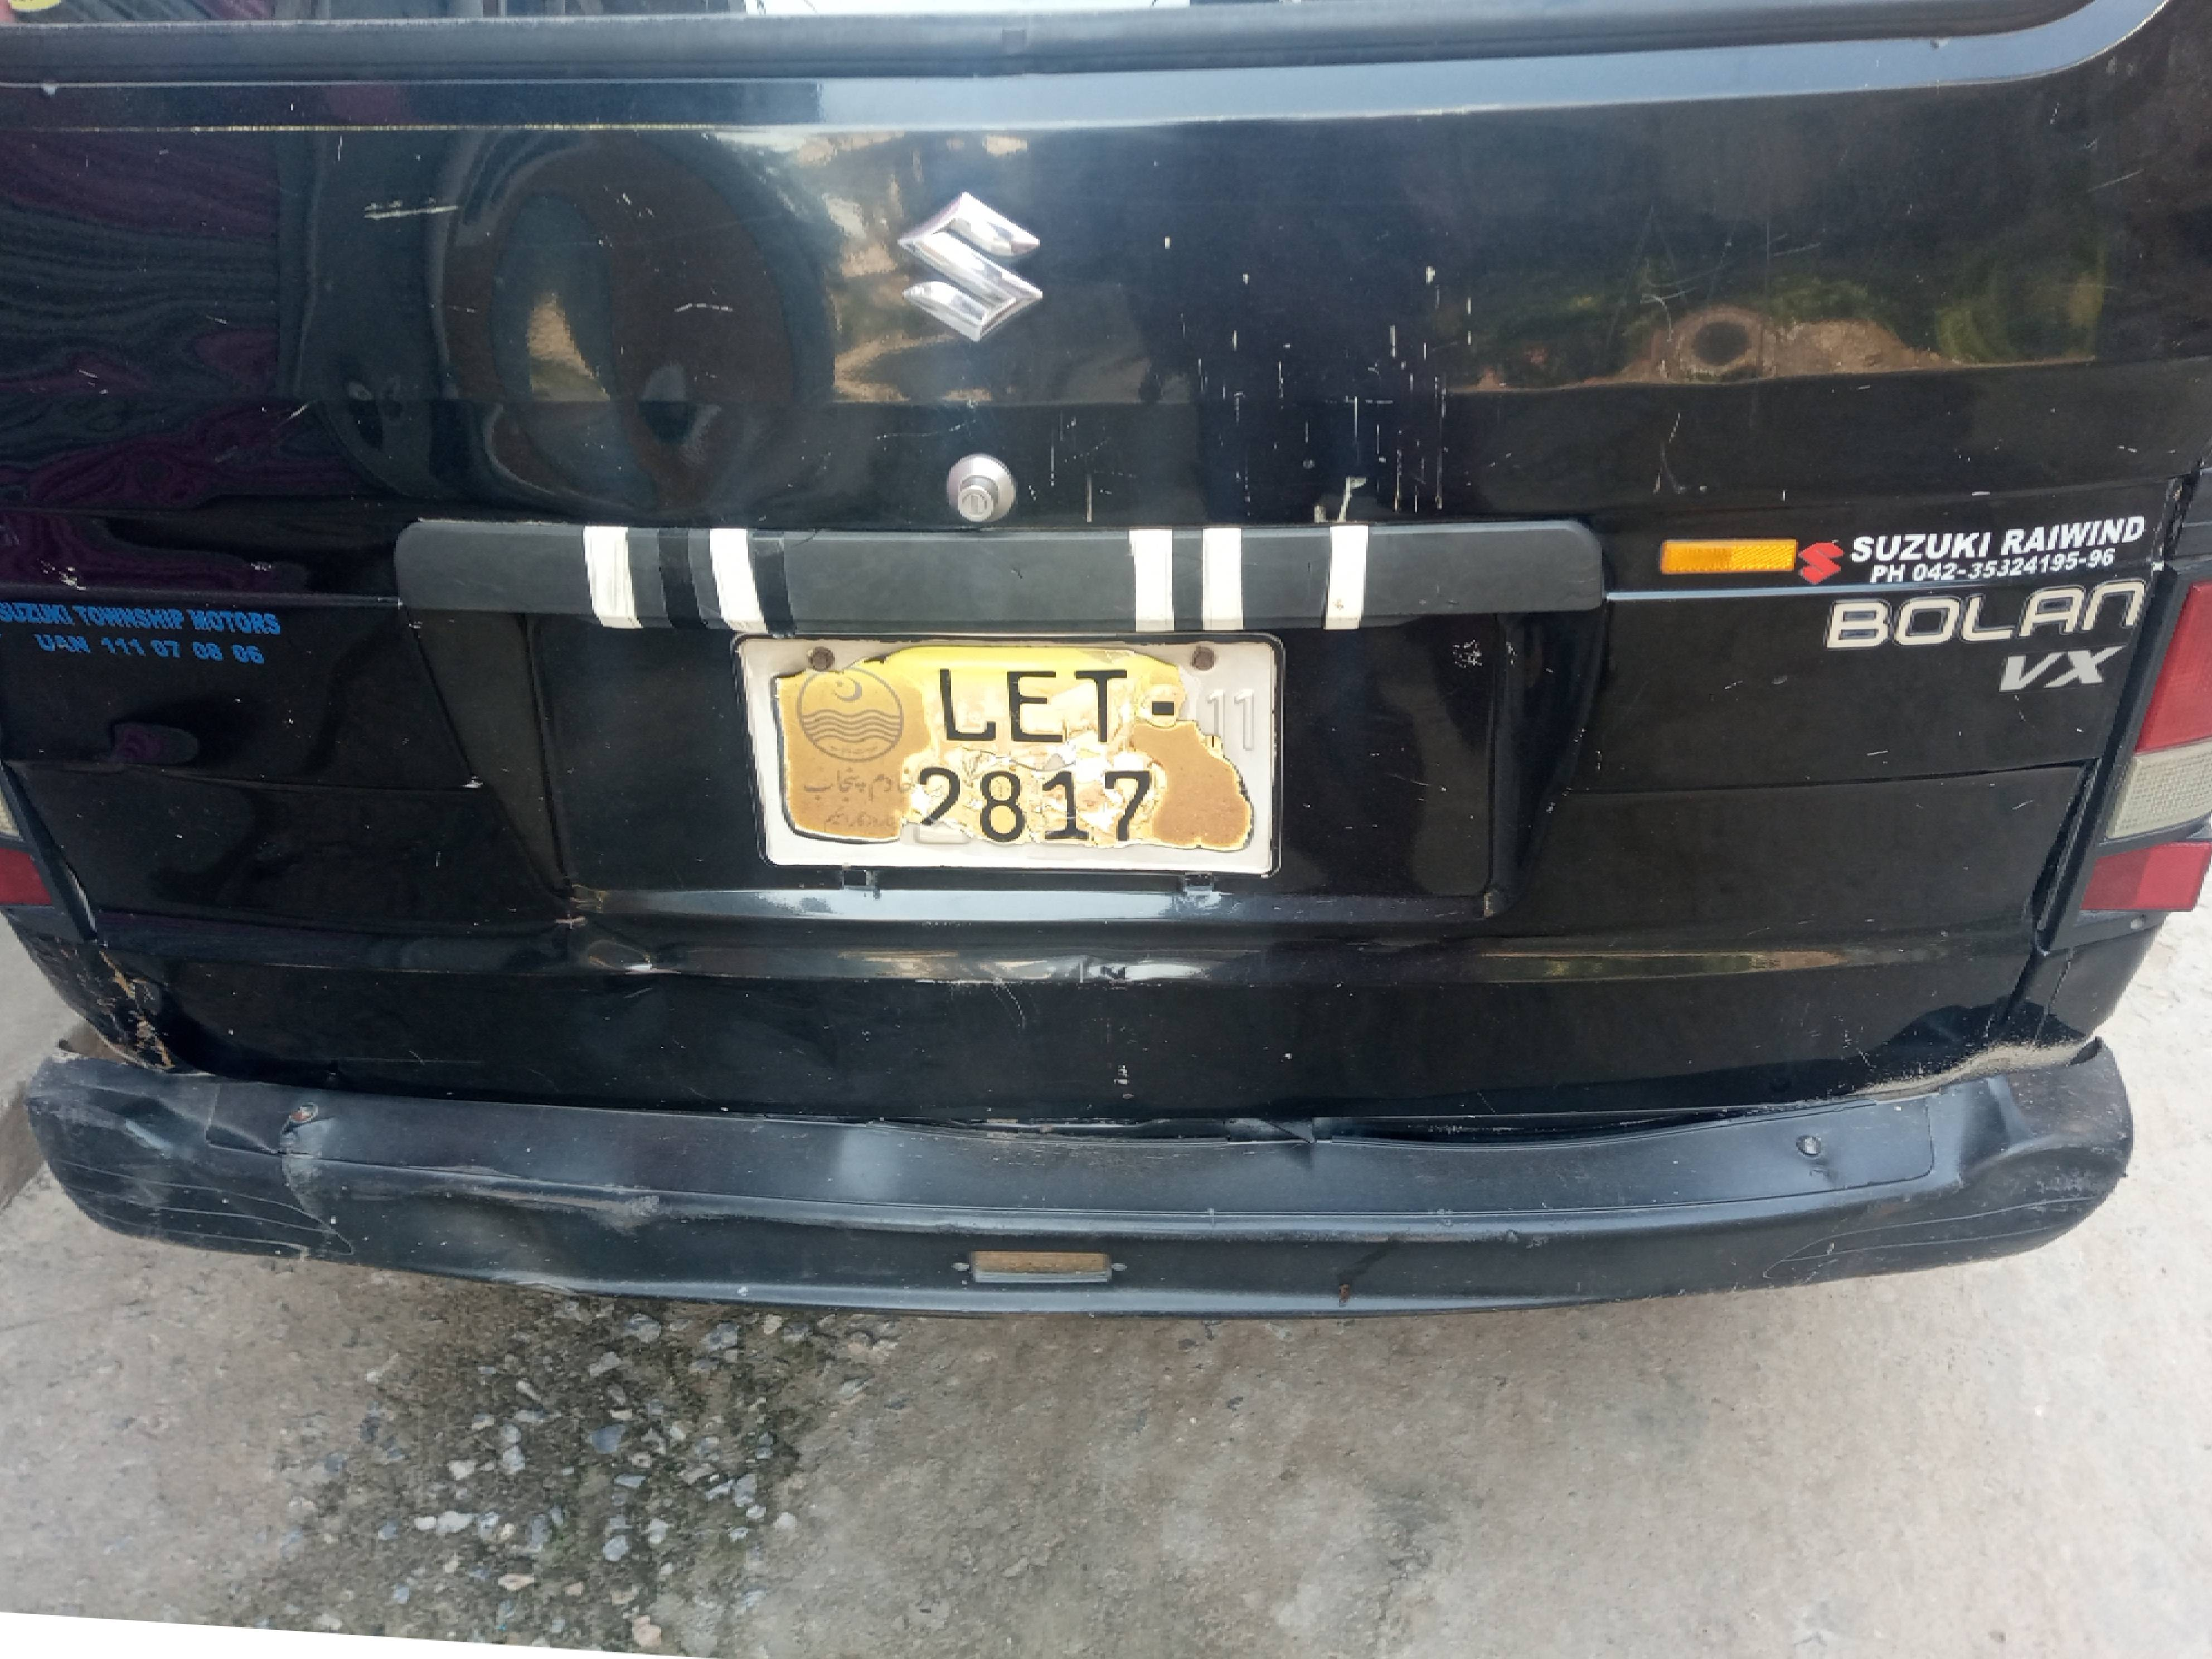number_plate: (738, 636, 1298, 874)
